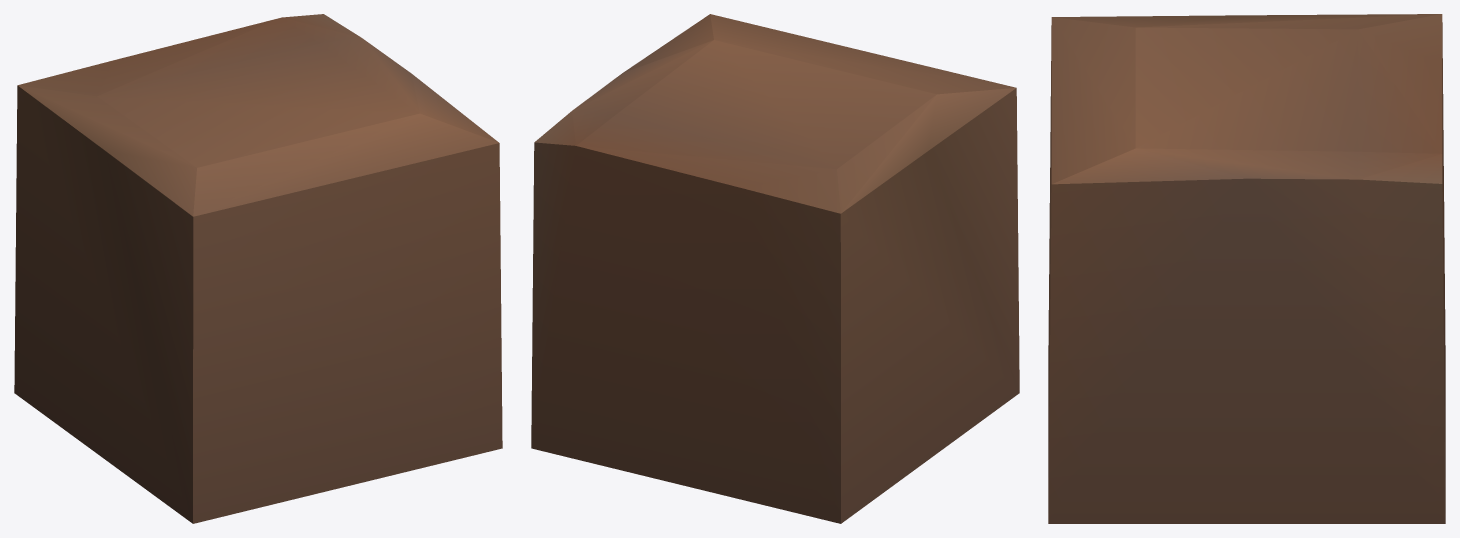
File: aholo-span-plank.glb
3 views of the same model, side by side, from view 1: azimuth 30°, elevation 25°; view 2: azimuth 150°, elevation 25°; view 3: azimuth 270°, elevation 25° (orthographic). The views are drawn at different scales.
Size of the model in its own units: 1 by 0.978 by 1.
